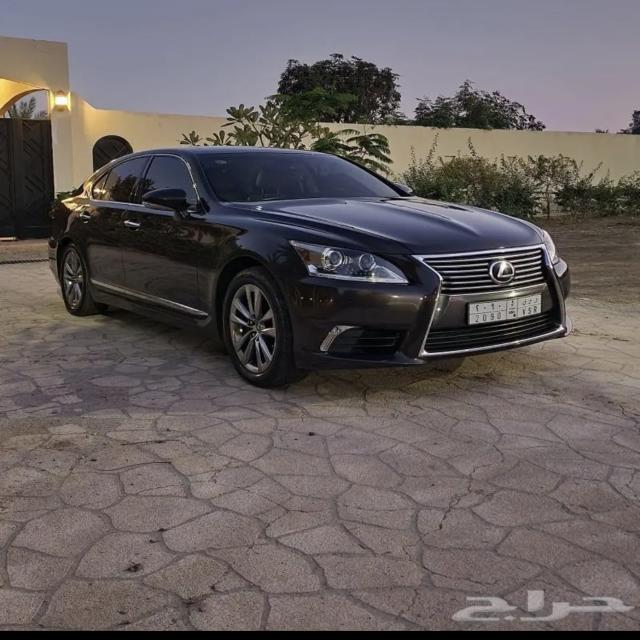license_plate: (466, 292, 543, 325)
